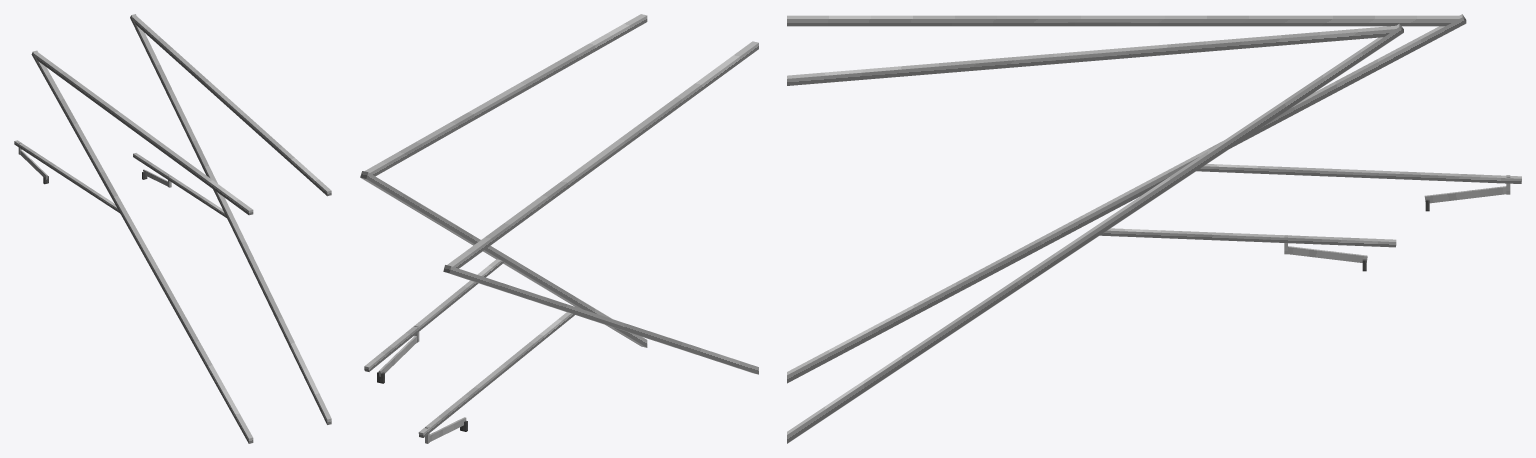
Rendered from cantilever_center_5px.obj.
The picture shows the model from 3 angles, left to right: view 1: azimuth 30°, elevation 25°; view 2: azimuth 150°, elevation 25°; view 3: azimuth 270°, elevation 25°; orthographic projection. The views are drawn at different scales.
Parts seen in each view (by area): view 1: 48b03b96-9024-4068-a21f-14f2d37c2236, ee58d8d5-ce81-4862-9658-d6c98a2600d6, 8c071b9c-d45a-44e0-8301-b1991bf6afe3, 07a1ce6a-1026-4c7b-bc4a-367d19c70a51, 8fc48ee9-fccd-4bb3-8751-993bc9326b9a, 69c0c7f9-d456-4860-ac28-4c4e1e3ccd5d; view 2: 8c071b9c-d45a-44e0-8301-b1991bf6afe3, 07a1ce6a-1026-4c7b-bc4a-367d19c70a51, 48b03b96-9024-4068-a21f-14f2d37c2236, ee58d8d5-ce81-4862-9658-d6c98a2600d6, 8fc48ee9-fccd-4bb3-8751-993bc9326b9a, 69c0c7f9-d456-4860-ac28-4c4e1e3ccd5d; view 3: 8c071b9c-d45a-44e0-8301-b1991bf6afe3, ee58d8d5-ce81-4862-9658-d6c98a2600d6, 48b03b96-9024-4068-a21f-14f2d37c2236, 07a1ce6a-1026-4c7b-bc4a-367d19c70a51, 8fc48ee9-fccd-4bb3-8751-993bc9326b9a, 69c0c7f9-d456-4860-ac28-4c4e1e3ccd5d, c25ae16d-e64a-4961-902a-b2815a017a4a.
Boxes of the visible parts, x1,y1,x2,y2 form: 48b03b96-9024-4068-a21f-14f2d37c2236: (31,50,253,443); ee58d8d5-ce81-4862-9658-d6c98a2600d6: (130,14,331,424); 8c071b9c-d45a-44e0-8301-b1991bf6afe3: (34,52,253,215); 07a1ce6a-1026-4c7b-bc4a-367d19c70a51: (132,16,331,196); 8fc48ee9-fccd-4bb3-8751-993bc9326b9a: (14,140,119,212); 69c0c7f9-d456-4860-ac28-4c4e1e3ccd5d: (133,153,226,217); 8c071b9c-d45a-44e0-8301-b1991bf6afe3: (447,41,758,268); 07a1ce6a-1026-4c7b-bc4a-367d19c70a51: (365,14,647,176); 48b03b96-9024-4068-a21f-14f2d37c2236: (443,265,758,374); ee58d8d5-ce81-4862-9658-d6c98a2600d6: (360,171,647,347); 8fc48ee9-fccd-4bb3-8751-993bc9326b9a: (418,312,575,437); 69c0c7f9-d456-4860-ac28-4c4e1e3ccd5d: (364,259,503,371); 8c071b9c-d45a-44e0-8301-b1991bf6afe3: (787,15,1458,26); ee58d8d5-ce81-4862-9658-d6c98a2600d6: (787,23,1403,443); 48b03b96-9024-4068-a21f-14f2d37c2236: (787,14,1466,383); 07a1ce6a-1026-4c7b-bc4a-367d19c70a51: (787,25,1396,85); 8fc48ee9-fccd-4bb3-8751-993bc9326b9a: (1196,164,1521,183); 69c0c7f9-d456-4860-ac28-4c4e1e3ccd5d: (1100,228,1396,247); c25ae16d-e64a-4961-902a-b2815a017a4a: (1424,186,1506,203).
Bounding box in the file's own units: 1.19 × 3.66 × 5.84.
